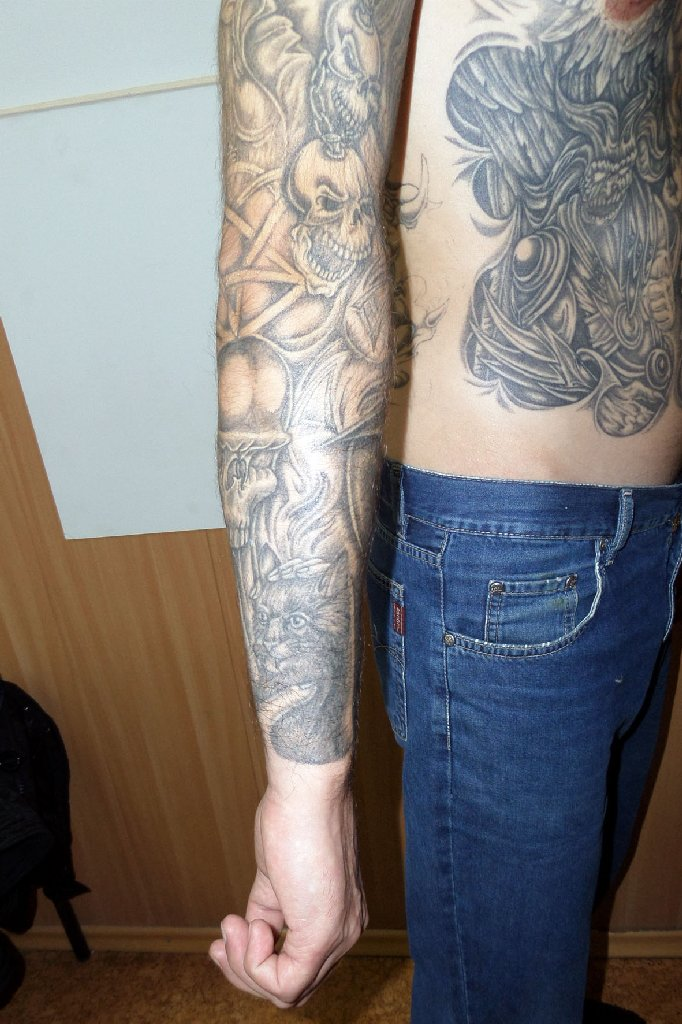tatu8_kot: (238, 529, 381, 789)
